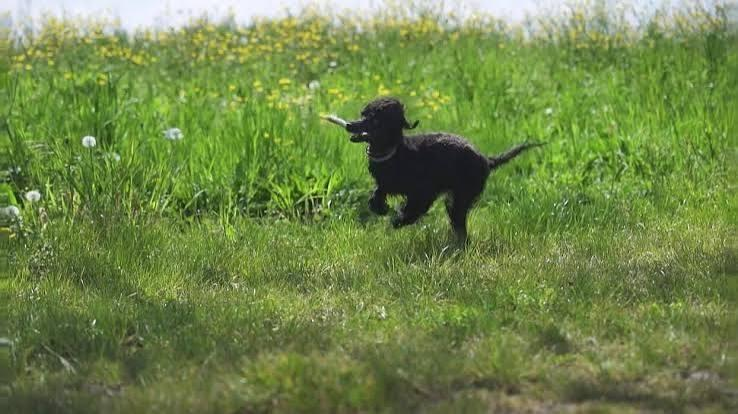adult_dog: (343, 96, 548, 262)
